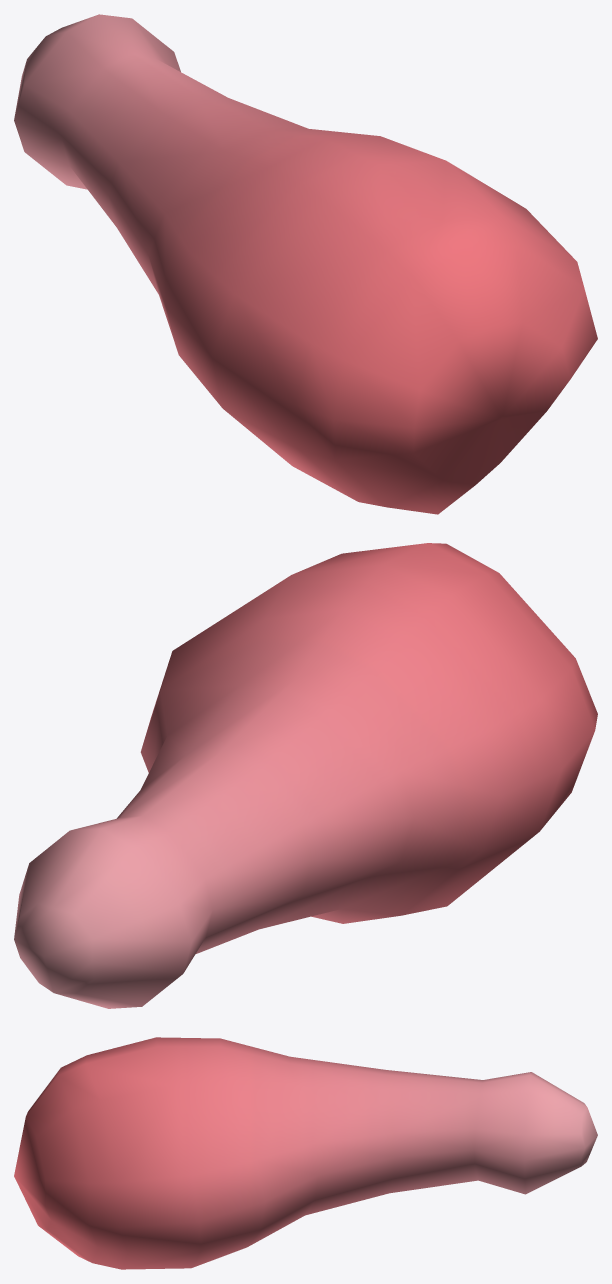
Rendered from fillet_004.fbx.
3 renders of one model, top to bottom at view 1: azimuth 30°, elevation 25°; view 2: azimuth 150°, elevation 25°; view 3: azimuth 270°, elevation 25°, orthographic. The views are drawn at different scales.
Parts seen in each view (by area): view 1: fillet_004; view 2: fillet_004; view 3: fillet_004.
Boxes of the visible parts, <box> form: fillet_004: <box>14,14,597,514</box>; fillet_004: <box>14,543,597,1008</box>; fillet_004: <box>14,1037,597,1269</box>.
Bounding box in the file's own units: 5.92 × 12.33 × 5.03.
